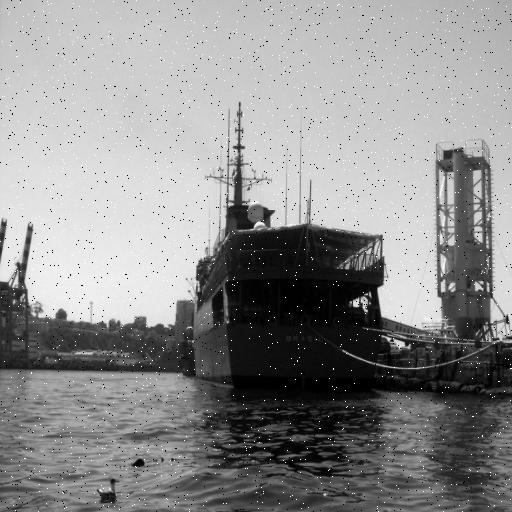Fragata: (186, 79, 394, 398)
